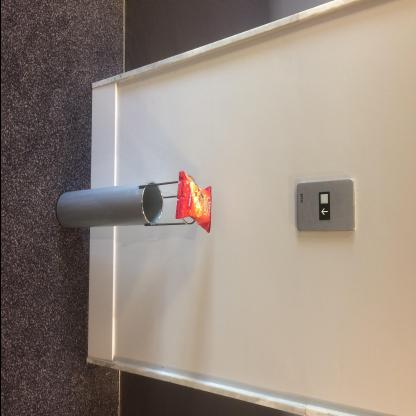plastik: (174, 171, 212, 233)
